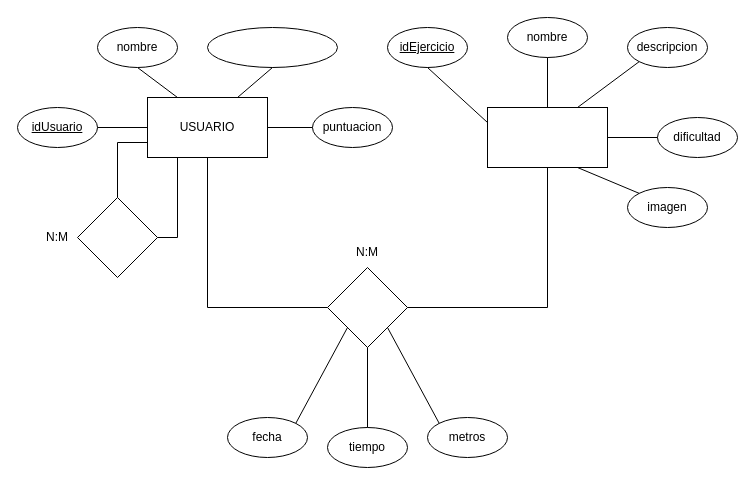
Image size: 755x485. Some labels were removed from this diagram. The shapes that lost their labels are listed below. From the top down, each one's centre as x and y in pixels, then its label:
point (272, 47): tiempoTotalEstudio
point (547, 137): EJERCICIO
point (117, 237): conoce
point (367, 307): hace
